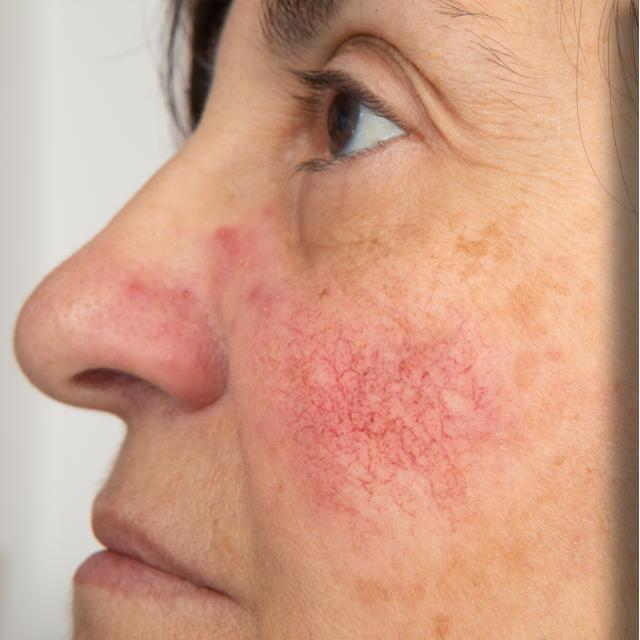Rosacea: (210, 225, 481, 512)
